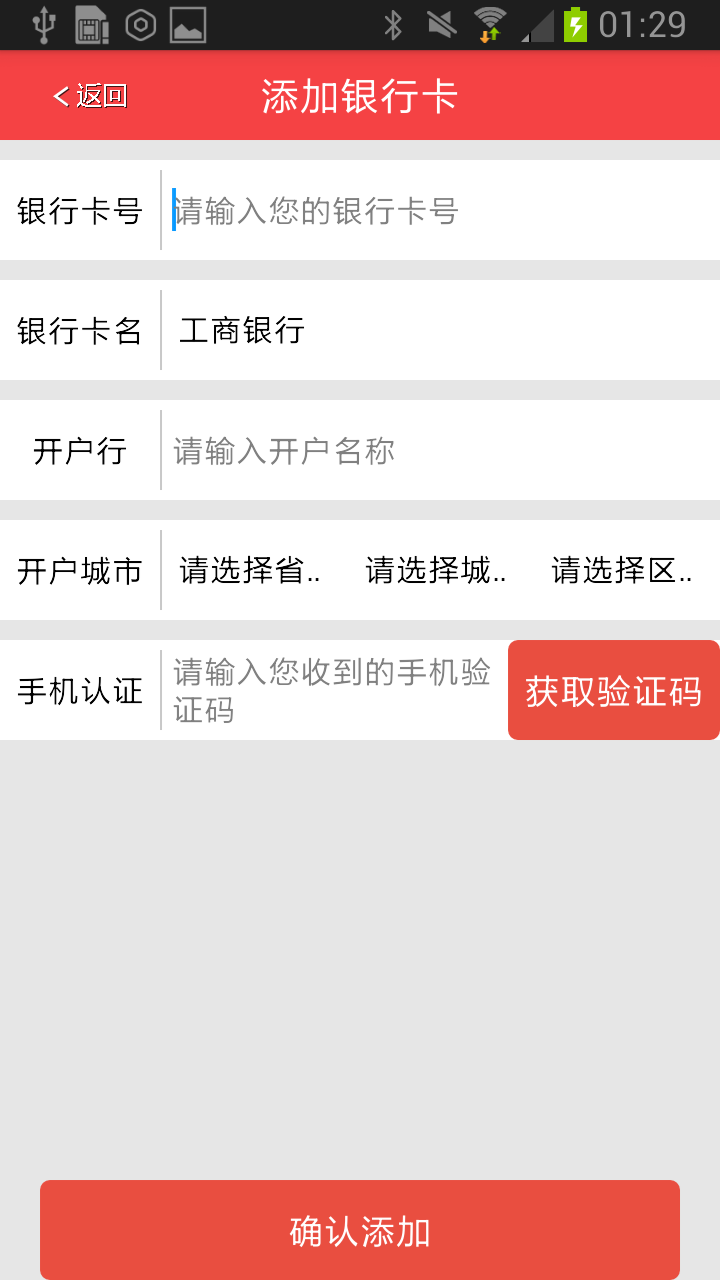textview: (1, 153, 720, 750)
